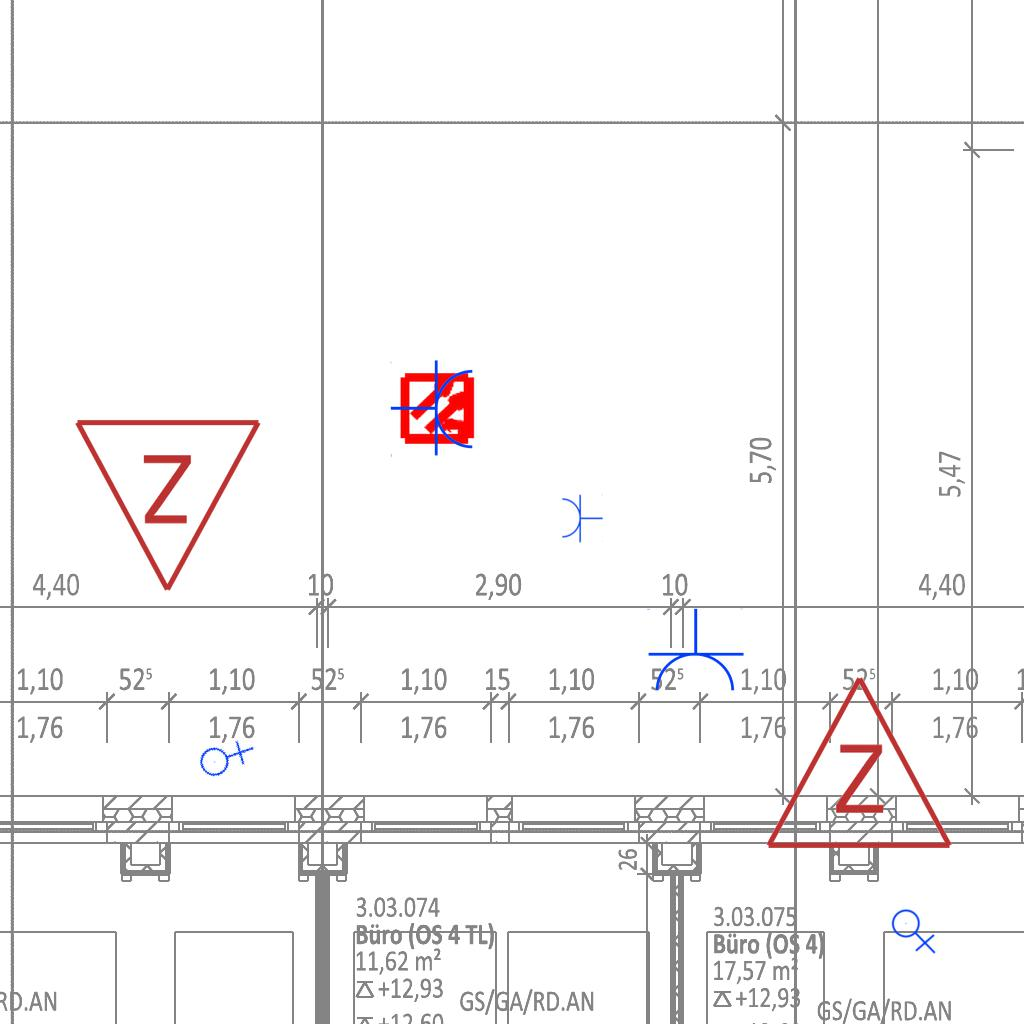Elektroanschluss_allgemein_230V_Geraeteanschlussdose_230V: (191, 724, 256, 789), (891, 905, 938, 954)
OT_Multisensormelder_(Kombination_RMO_WMD): (383, 352, 496, 465)
Schukosteckdose_einfach: (645, 608, 745, 695), (390, 359, 477, 459), (560, 493, 603, 543)
Zimmersignalleuchte: (759, 663, 955, 863), (72, 405, 268, 605)
